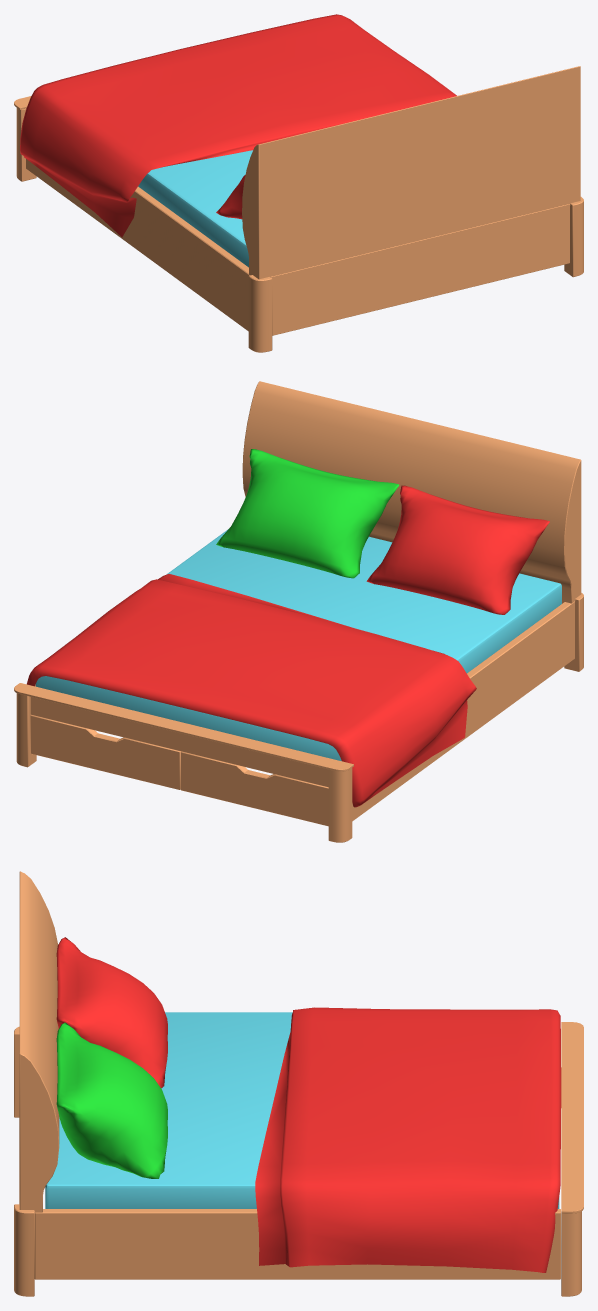
The model's file is bed_1.FBX.
3 views of the same model, one above another, from view 1: azimuth 30°, elevation 25°; view 2: azimuth 150°, elevation 25°; view 3: azimuth 270°, elevation 25° (orthographic). The views are drawn at different scales.
Visible parts, largest first — view 1: base, pillow1; view 2: base, pillow1, pillow2; view 3: base, pillow2, pillow1.
Boxes of the visible parts, bbox=[...] form: base: bbox=[14, 14, 583, 352]; pillow1: bbox=[216, 175, 245, 219]; base: bbox=[14, 381, 583, 842]; pillow1: bbox=[366, 485, 549, 614]; pillow2: bbox=[216, 449, 399, 578]; base: bbox=[14, 871, 583, 1296]; pillow2: bbox=[56, 1022, 167, 1178]; pillow1: bbox=[56, 937, 167, 1088].
Size of the model in its own units: 1.84 by 1.03 by 2.21.
